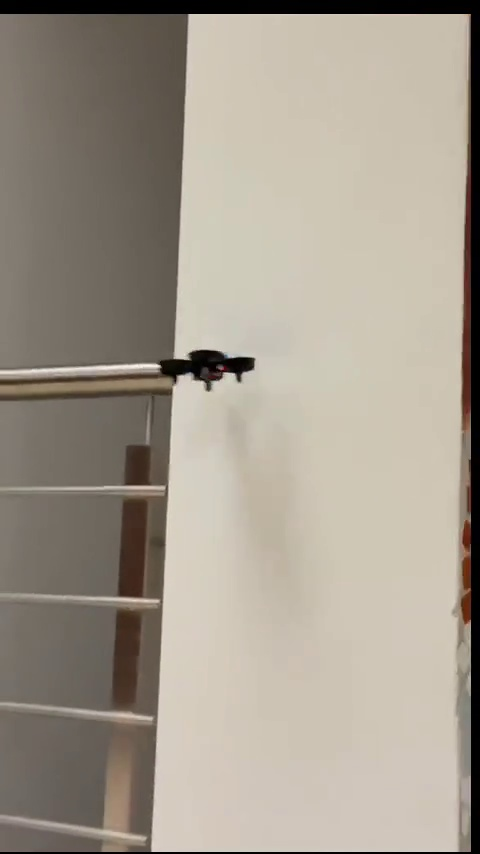drone: (160, 347, 253, 389)
